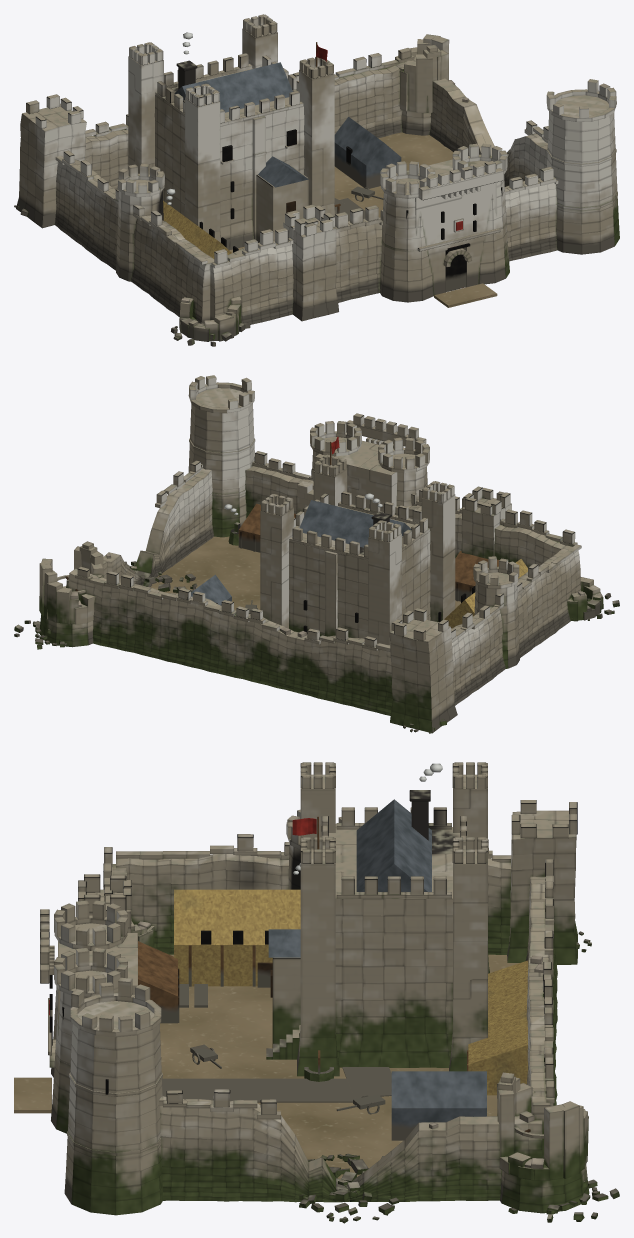
The model's file is castle.glb.
The picture shows the model from 3 angles, top to bottom: view 1: azimuth 30°, elevation 25°; view 2: azimuth 150°, elevation 25°; view 3: azimuth 270°, elevation 25°; orthographic projection. The views are drawn at different scales.
Visible parts, largest first — view 1: masonry, ward, fittings; view 2: masonry, ward, fittings; view 3: masonry, ward, fittings.
Boxes of the visible parts, x1,y1,x2,y2 form: masonry: (14,14,619,346); ward: (163,117,453,258); fittings: (174,32,502,307); masonry: (14,375,619,733); ward: (150,481,527,628); fittings: (65,437,411,633); masonry: (40,762,619,1223); ward: (138,863,528,1179); fittings: (14,763,530,1132).
Bounding box in the file's own units: 71.16 × 27.82 × 60.55.
3 materials, 3 textured.
